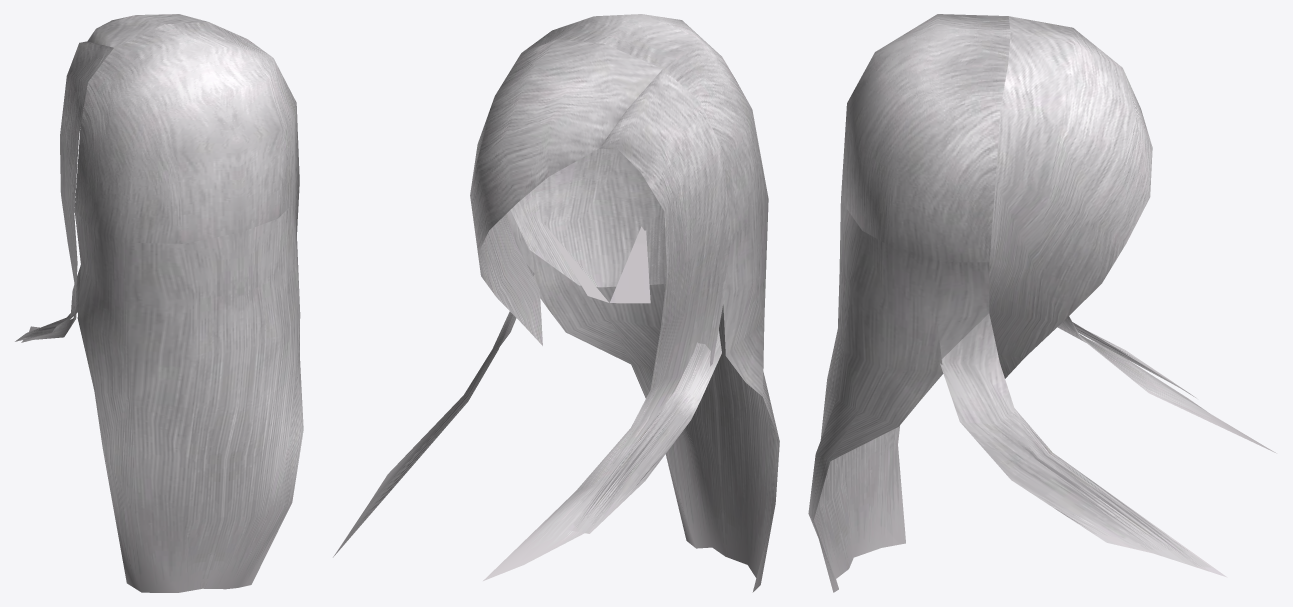
The model's file is Mage female hair 47.glb.
3 views of the same model, side by side, from view 1: azimuth 30°, elevation 25°; view 2: azimuth 150°, elevation 25°; view 3: azimuth 270°, elevation 25° (orthographic). The views are drawn at different scales.
Parts seen in each view (by area): view 1: 0004_0; view 2: 0004_0; view 3: 0004_0.
Part boxes in pixels (x1,y1,x2,y2): 0004_0: (15, 14, 303, 592); 0004_0: (333, 14, 779, 592); 0004_0: (808, 14, 1276, 592).
Bounding box in the file's own units: 0.2001 × 0.3752 × 0.2846.
Materials: 1 (1 with a texture image).
